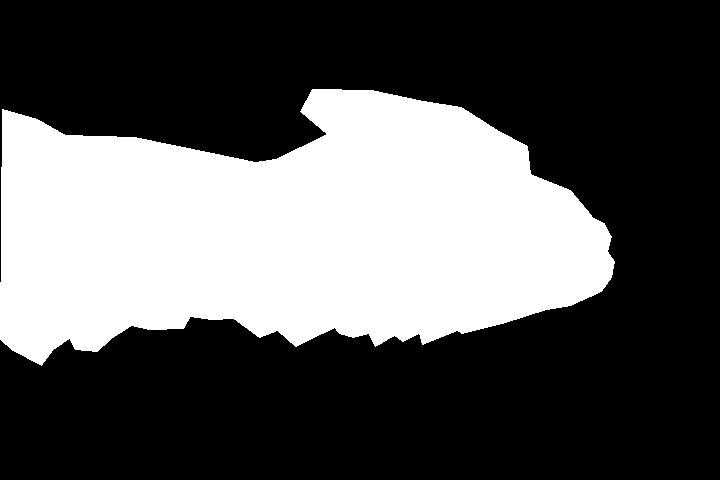Fire: (264, 102, 611, 318)
